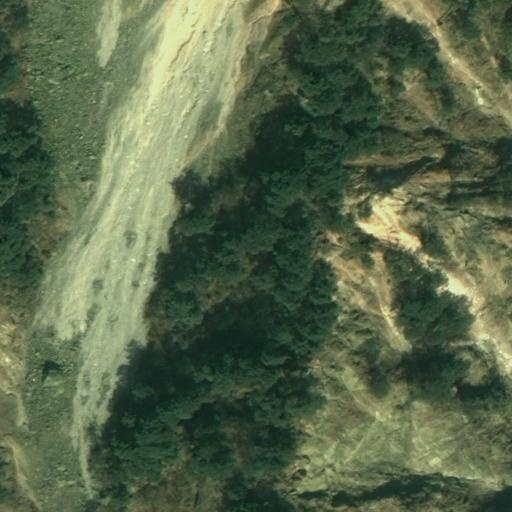landslide: (11, 1, 277, 499)
